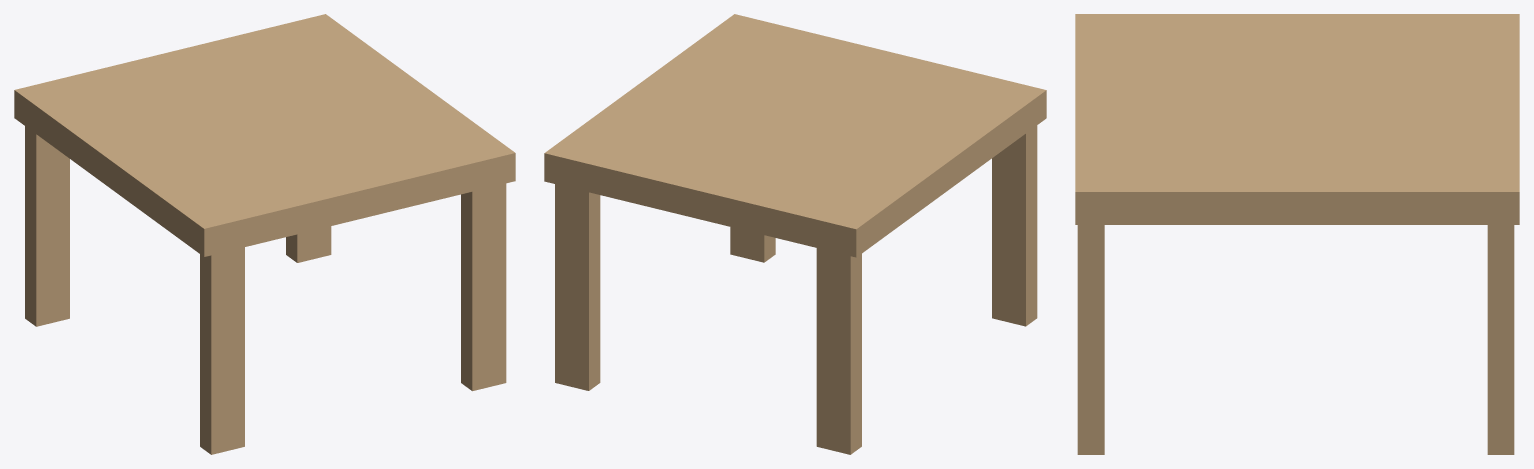
File: SM_table_02.fbx
3 views of the same model, side by side, from view 1: azimuth 30°, elevation 25°; view 2: azimuth 150°, elevation 25°; view 3: azimuth 270°, elevation 25° (orthographic). The views are drawn at different scales.
Parts seen in each view (by area): view 1: Box155; view 2: Box155; view 3: Box155.
Boxes of the visible parts, x1,y1,x2,y2 form: Box155: (14, 14, 515, 454); Box155: (544, 14, 1046, 454); Box155: (1075, 14, 1519, 454).
Size of the model in its own units: 50.12 by 35.2 by 52.92.
